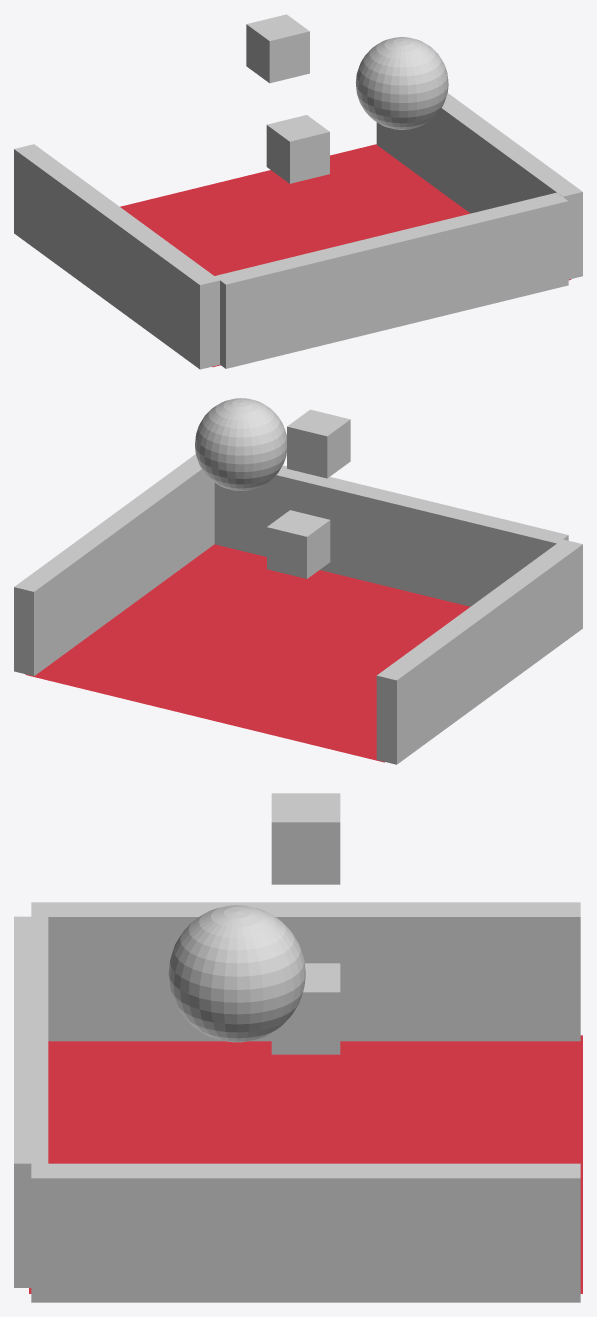
3 views of the same model, one above another, from view 1: azimuth 30°, elevation 25°; view 2: azimuth 150°, elevation 25°; view 3: azimuth 270°, elevation 25° (orthographic). The views are drawn at different scales.
Parts seen in each view (by area): view 1: Wall.002, Plane, Wall.001, Wall, Sphere, Cube, Cube.001; view 2: Plane, Wall.002, Wall.001, Wall, Sphere, Cube.001, Cube; view 3: Wall, Plane, Wall.001, Sphere, Wall.002, Cube.001, Cube.
Boxes of the visible parts, <box> form: Wall.002: <box>214,192,568,368</box>; Plane: <box>120,144,571,367</box>; Wall.001: <box>14,144,219,369</box>; Wall: <box>376,93,582,279</box>; Sphere: <box>355,37,448,129</box>; Cube: <box>266,115,329,183</box>; Cube.001: <box>246,14,309,83</box>; Plane: <box>25,544,470,762</box>; Wall.002: <box>214,465,568,606</box>; Wall.001: <box>376,539,582,764</box>; Wall: <box>14,454,214,676</box>; Sphere: <box>195,398,286,490</box>; Cube.001: <box>287,409,350,478</box>; Cube: <box>267,510,330,578</box>; Wall: <box>31,1163,580,1302</box>; Plane: <box>29,1035,582,1293</box>; Wall.001: <box>31,902,580,1041</box>; Sphere: <box>168,905,305,1042</box>; Wall.002: <box>14,916,48,1287</box>; Cube.001: <box>271,793,340,884</box>; Cube: <box>271,963,340,1054</box>.
Size of the model in its own units: 9.5 by 5.5 by 8.28.
